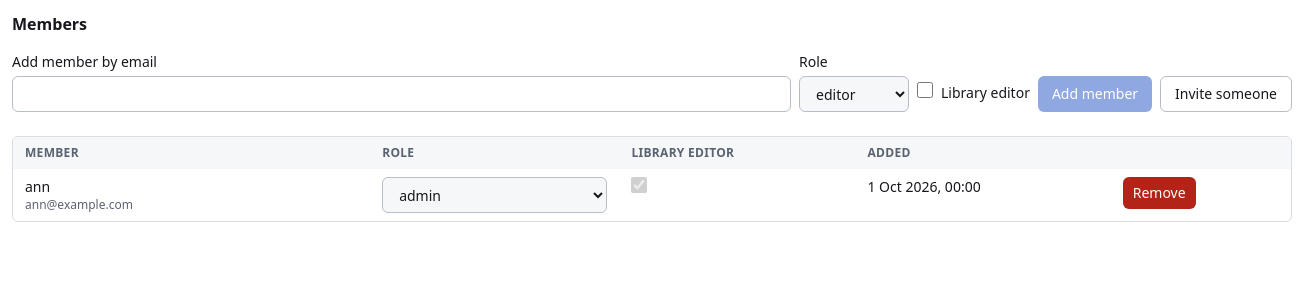
it: MembersPanel › explains the last-admin rule inline and rolls the role back
Select "viewer" in the dropdown named "Role of ann@example.com" at x=495, y=195, box [382, 177, 608, 213]
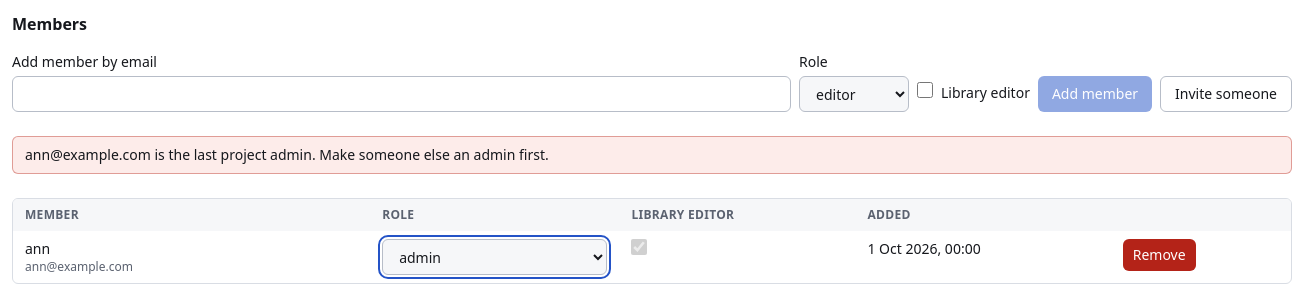
Expected: the text "last project admin" is shown, [25, 145, 549, 164]
